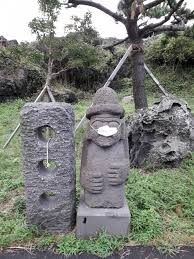Stone Statue: (67, 84, 137, 243)
